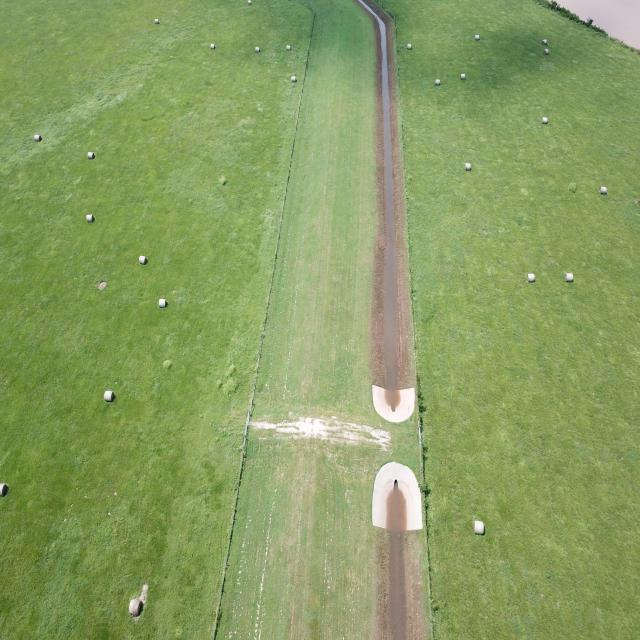fire: (358, 0, 398, 412), (558, 0, 640, 47), (390, 532, 407, 640)
